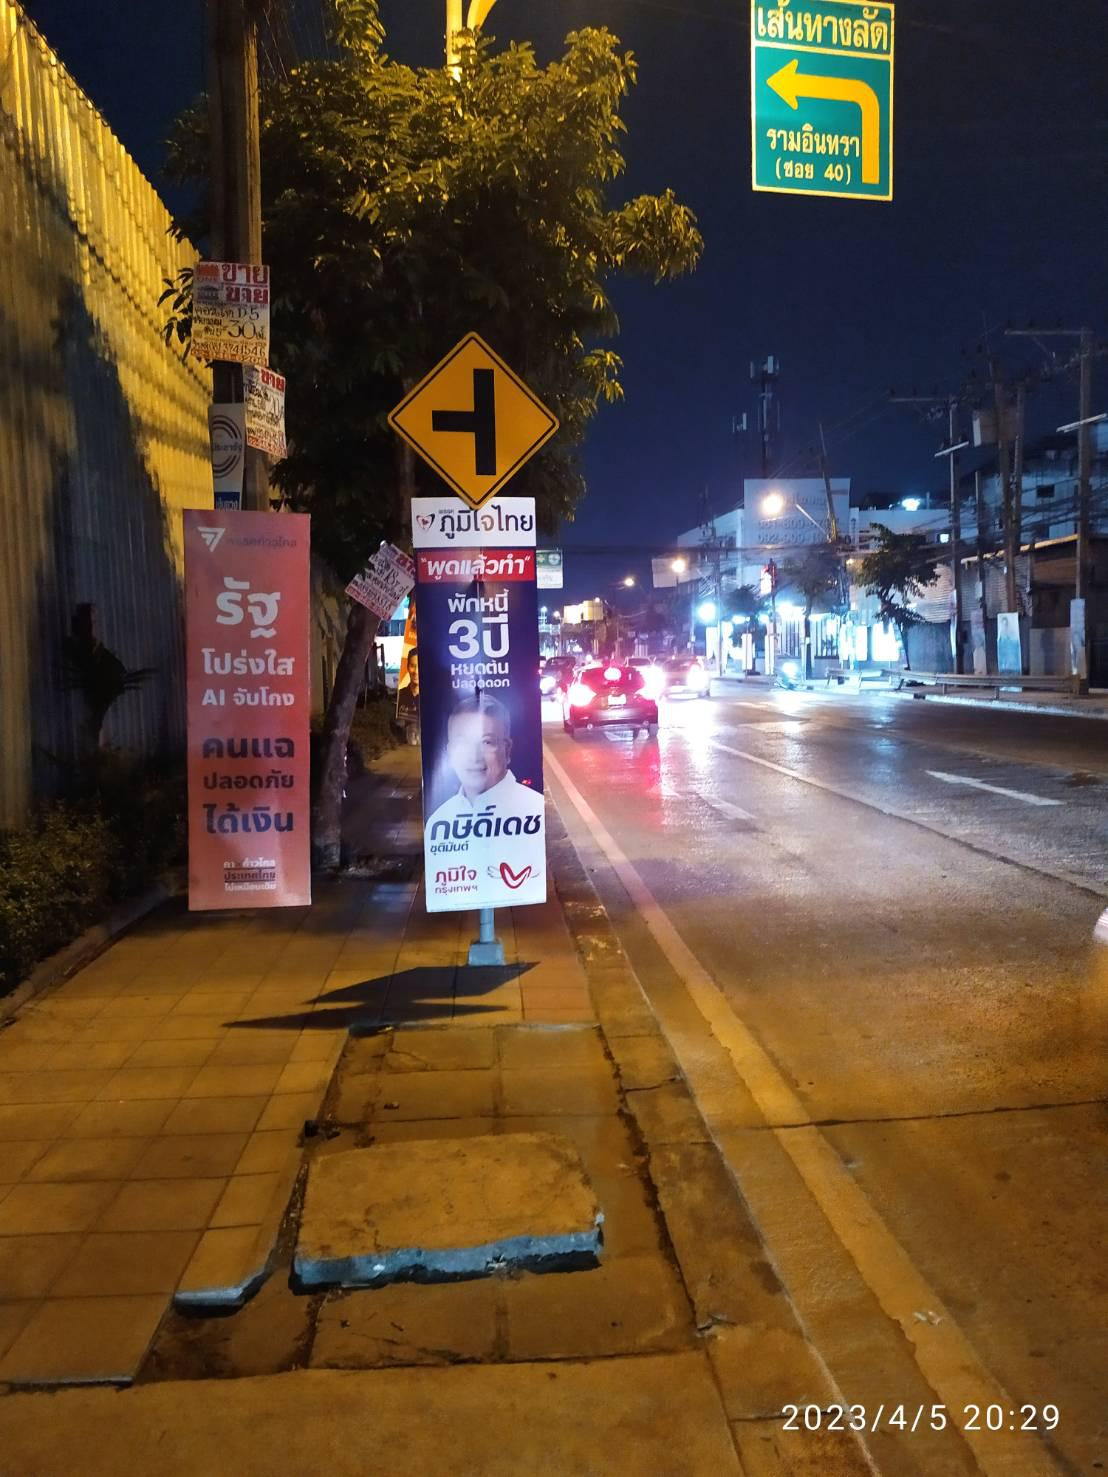Banner: (170, 495, 324, 917), (405, 487, 552, 919)
